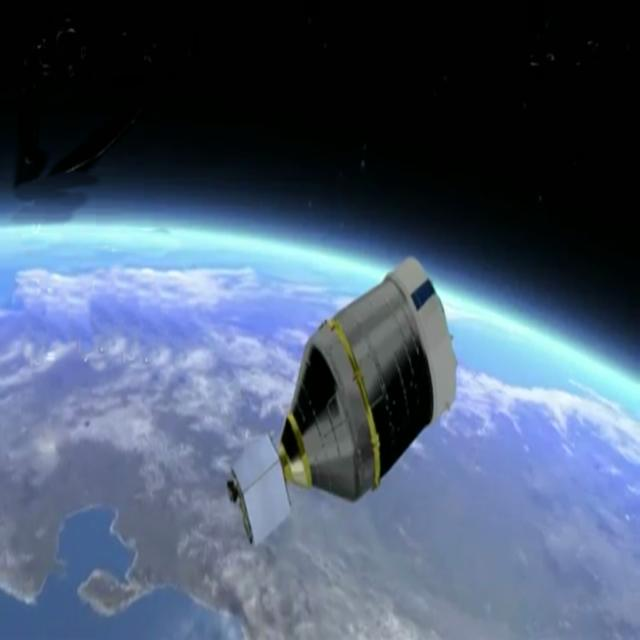medium_debris: (203, 219, 463, 574)
